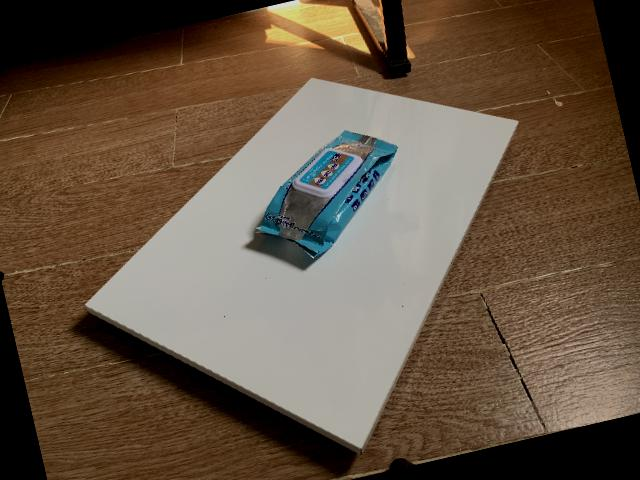Let-green_alcohol_wipes: (253, 129, 400, 259)
